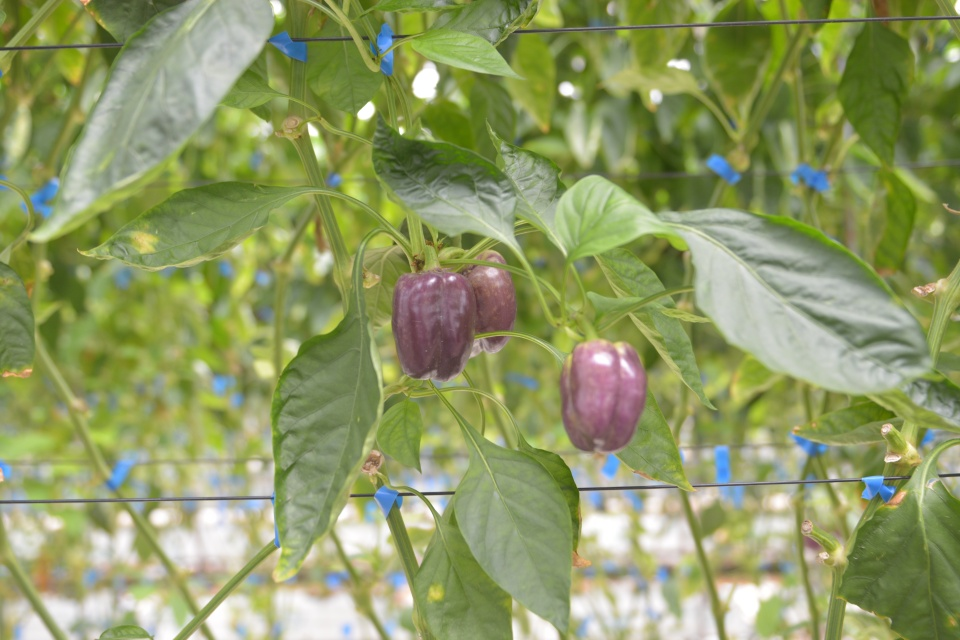fruit: (556, 337, 649, 455), (389, 269, 479, 384), (458, 247, 517, 357)
